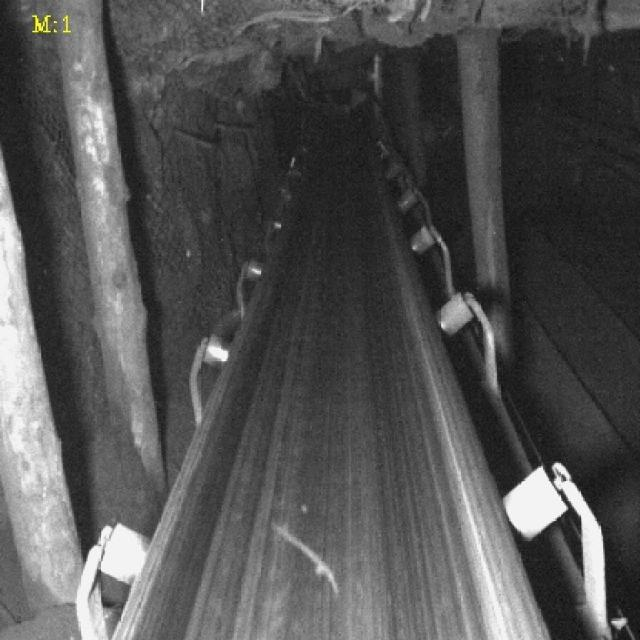bolt: (275, 520, 343, 591)
